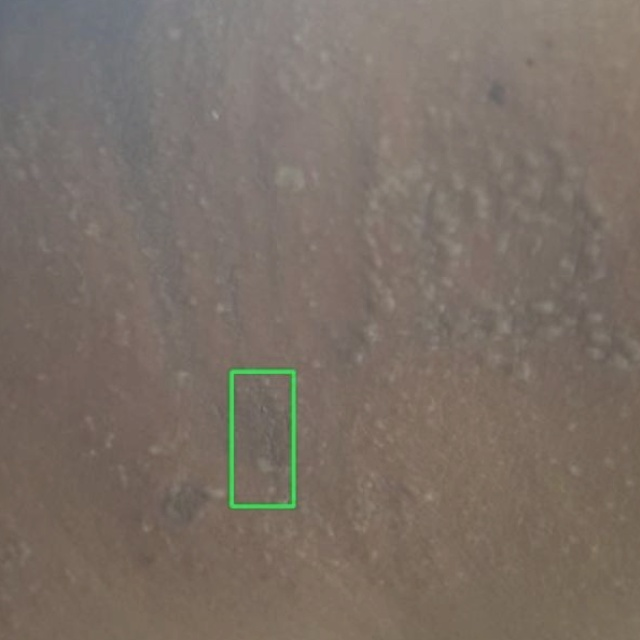Contact Dermatitis: (231, 371, 293, 506)
